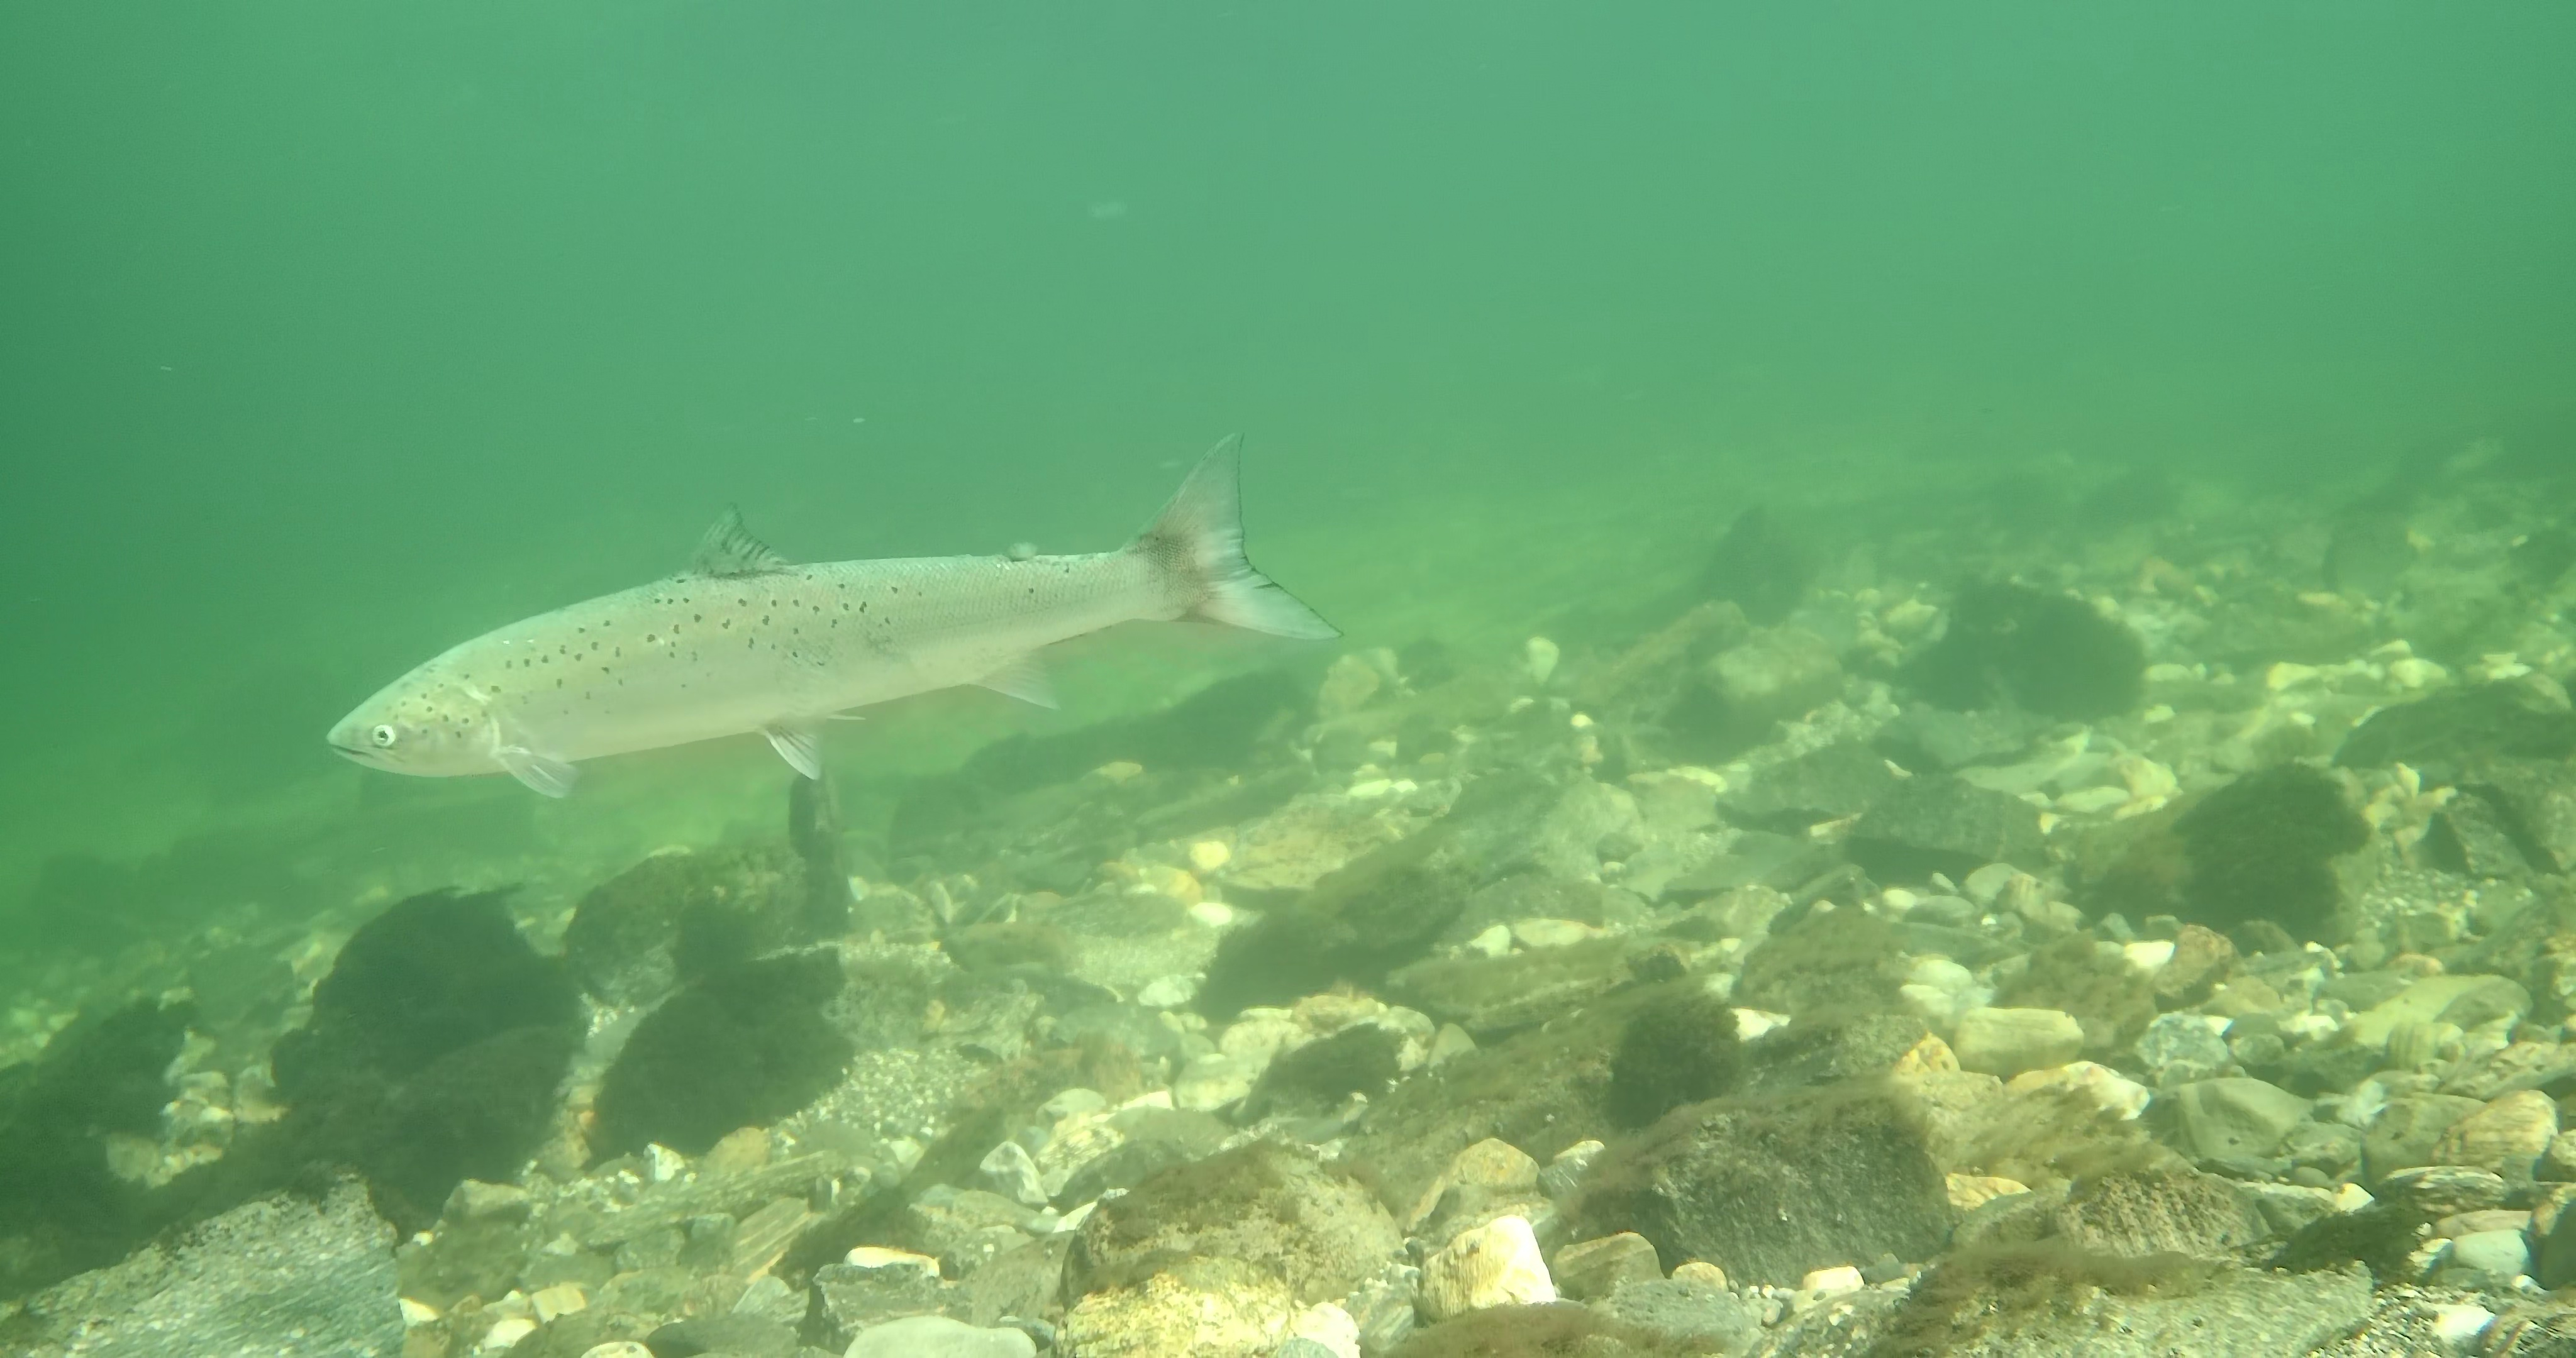salmon: (322, 428, 1344, 803)
